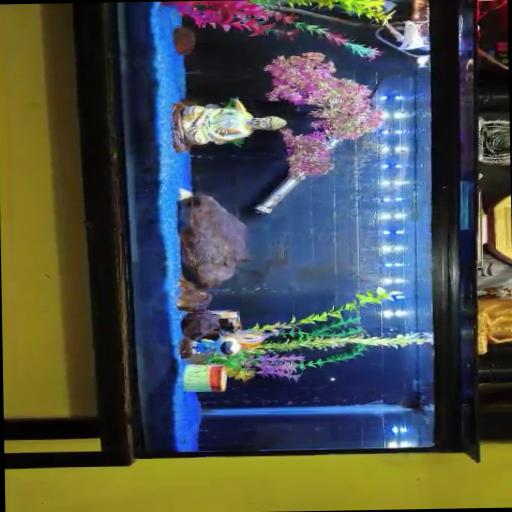Fish: (397, 19, 425, 49)
